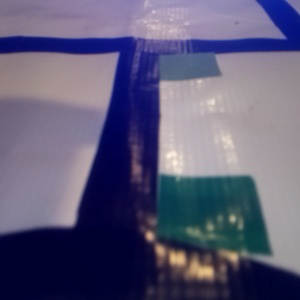bottom_right: (119, 38, 253, 97)
top_right: (79, 136, 300, 300)
